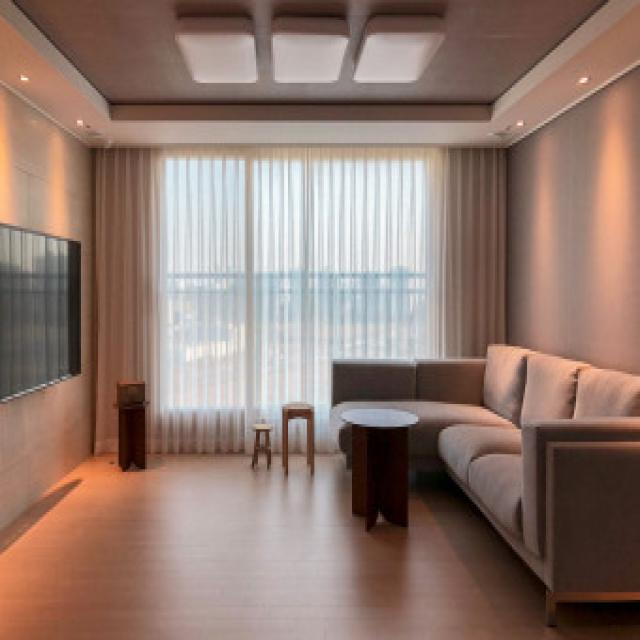Sofa: (430, 342, 640, 626)
Table: (342, 407, 423, 538)
tv: (1, 221, 84, 400)
